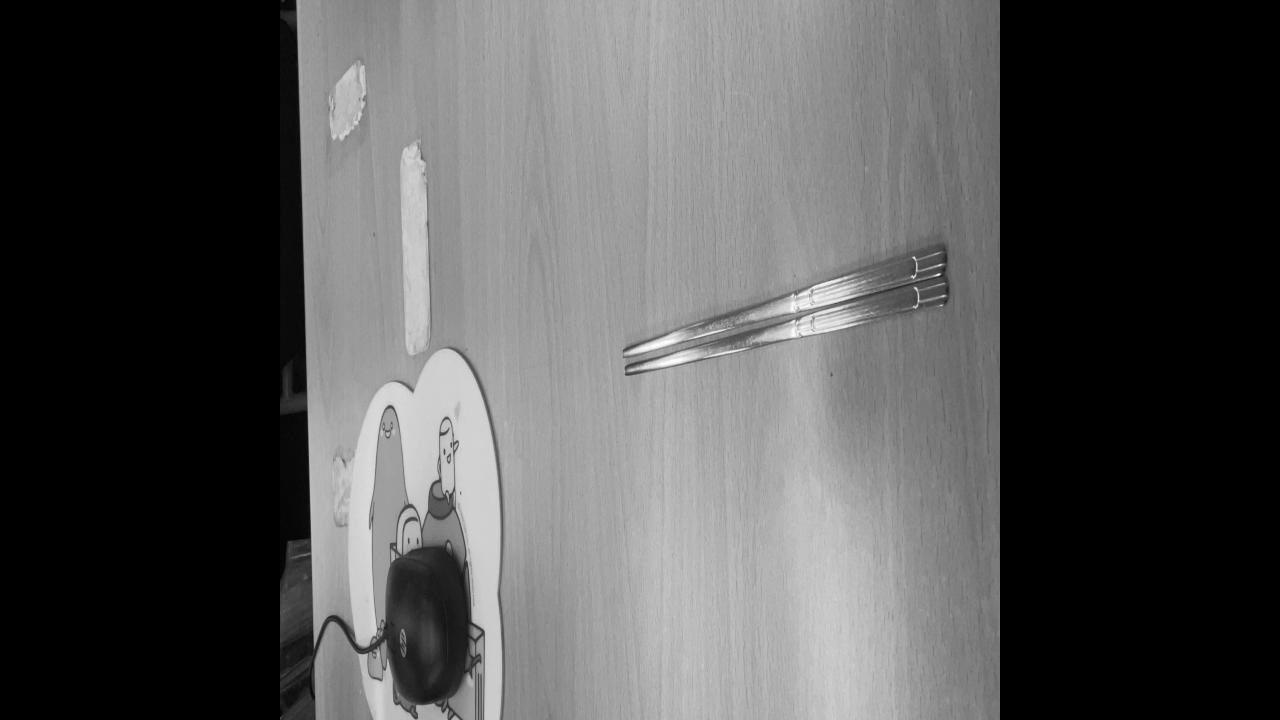chopstick: (620, 237, 954, 377)
